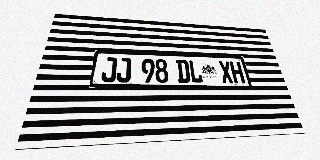8: (155, 59, 169, 83)
9: (142, 58, 155, 83)
D: (176, 60, 191, 83)
H: (229, 61, 246, 83)
J: (101, 57, 117, 82), (116, 58, 131, 82)
L: (188, 60, 203, 83)
X: (218, 61, 234, 83)
